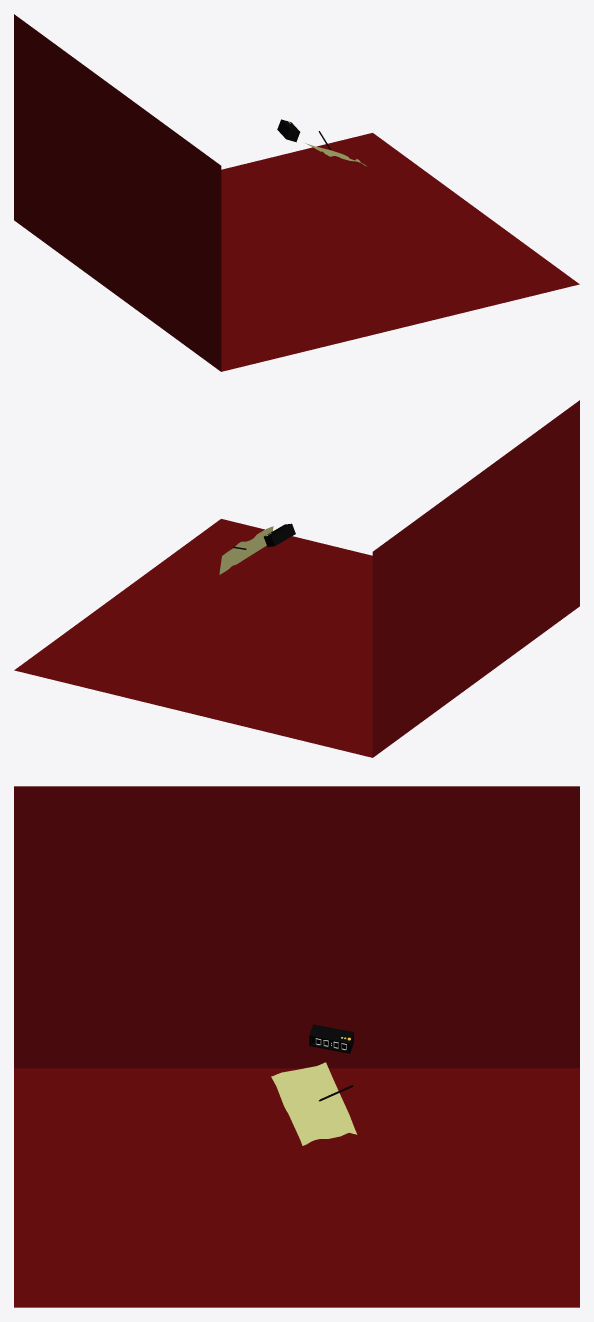
File: evaluasi.gltf
3 renders of one model, top to bottom at view 1: azimuth 30°, elevation 25°; view 2: azimuth 150°, elevation 25°; view 3: azimuth 270°, elevation 25°, orthographic. The views are drawn at different scales.
Parts seen in each view (by area): view 1: bg; view 2: bg, Plane.001; view 3: bg, Plane.001, Jam.
Part boxes in pixels (box(x1,y1,x2,y2)): bg: box(14, 14, 579, 371); bg: box(14, 400, 579, 757); Plane.001: box(219, 526, 273, 574); bg: box(14, 786, 579, 1307); Plane.001: box(271, 1062, 357, 1145); Jam: box(309, 1024, 353, 1053).
Size of the model in its own units: 8 by 4.39 by 8.
